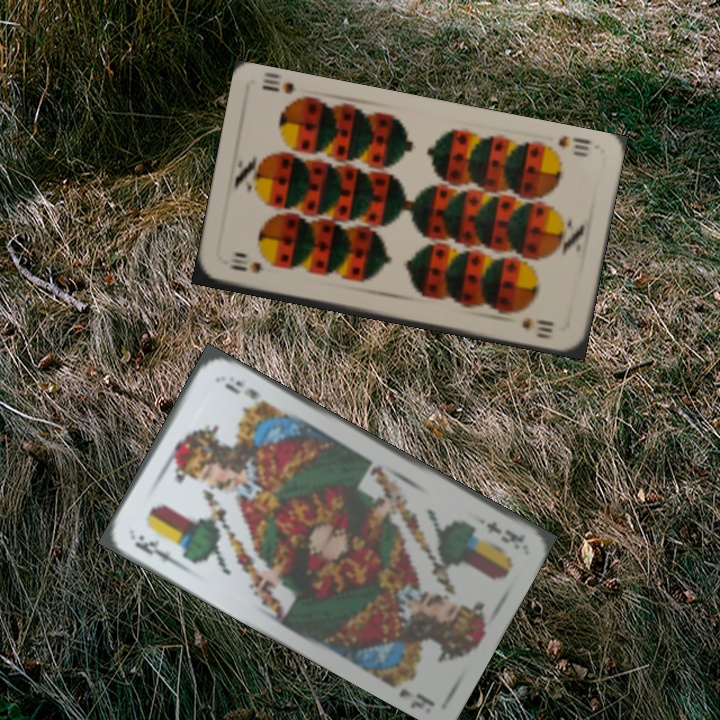EK: (131, 530, 182, 569), (481, 517, 528, 546)
S10: (554, 131, 593, 160), (225, 255, 266, 276)
